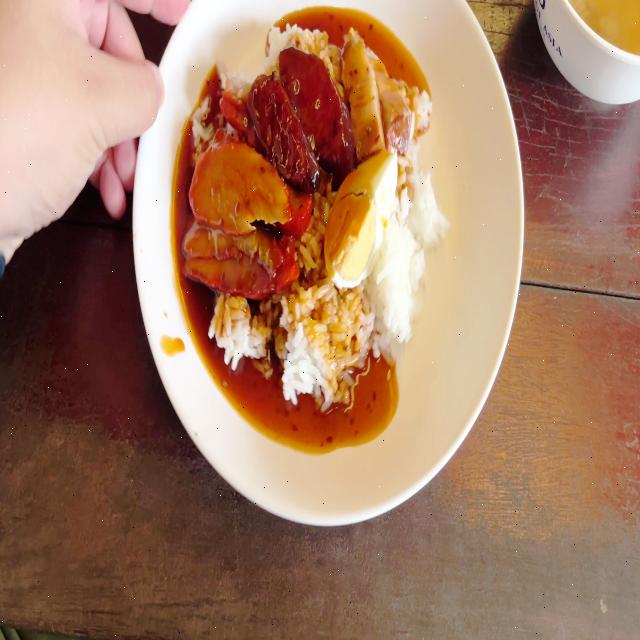boiled_egg: (330, 148, 397, 282)
chainese_sausage: (255, 42, 348, 181)
crispy_pork: (344, 23, 407, 154)
red_pork: (188, 140, 289, 277)
red_pork_and_crispy_pork: (192, 21, 438, 385)
rice: (281, 282, 362, 388), (378, 231, 419, 330), (214, 288, 266, 358)
